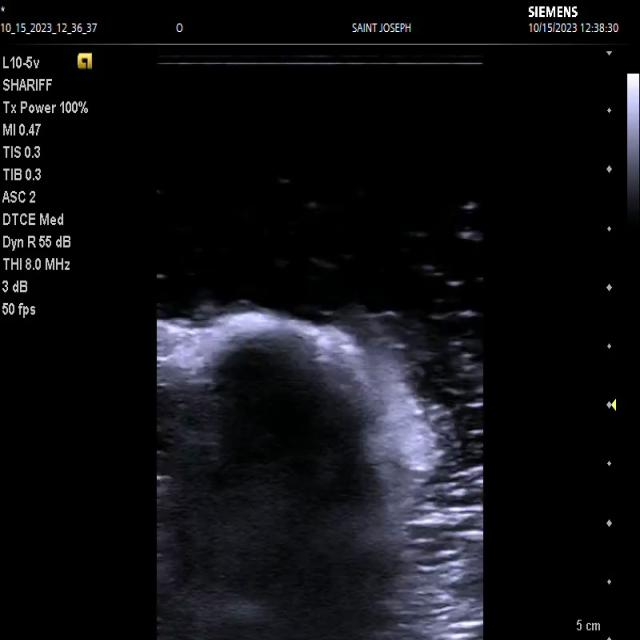tissue: (156, 311, 441, 640)
